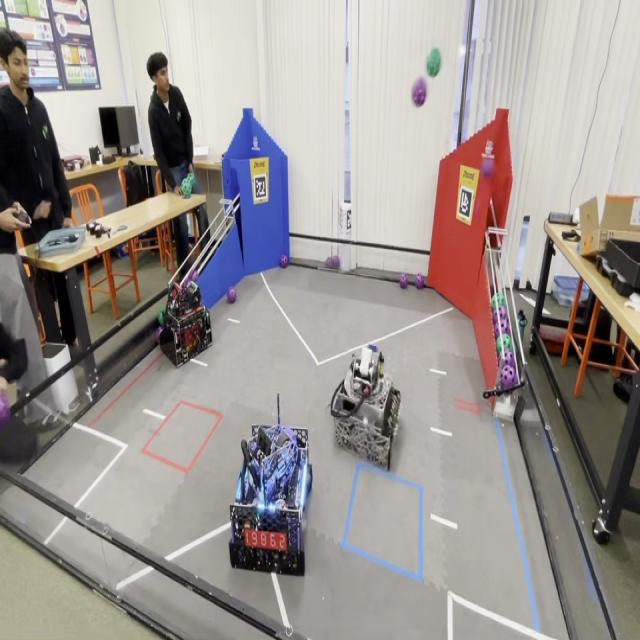artifact_green: (500, 364, 518, 389), (427, 48, 441, 77), (496, 335, 512, 355), (491, 292, 506, 311), (181, 178, 193, 196), (415, 273, 425, 289), (187, 172, 195, 188), (158, 309, 165, 327), (156, 326, 163, 343), (332, 255, 340, 269), (280, 254, 288, 267), (191, 271, 199, 283), (206, 310, 209, 318)
artifact_purple: (412, 77, 427, 107), (500, 364, 518, 388), (494, 315, 510, 338), (0, 392, 10, 427), (500, 350, 515, 368), (481, 158, 494, 178), (493, 306, 507, 323), (500, 318, 511, 335), (227, 287, 237, 303), (415, 273, 424, 289), (400, 274, 408, 289), (493, 319, 499, 338), (332, 255, 340, 269), (156, 328, 163, 343), (185, 273, 193, 286), (280, 255, 288, 267), (326, 256, 333, 269), (191, 272, 199, 283), (182, 278, 189, 290)
